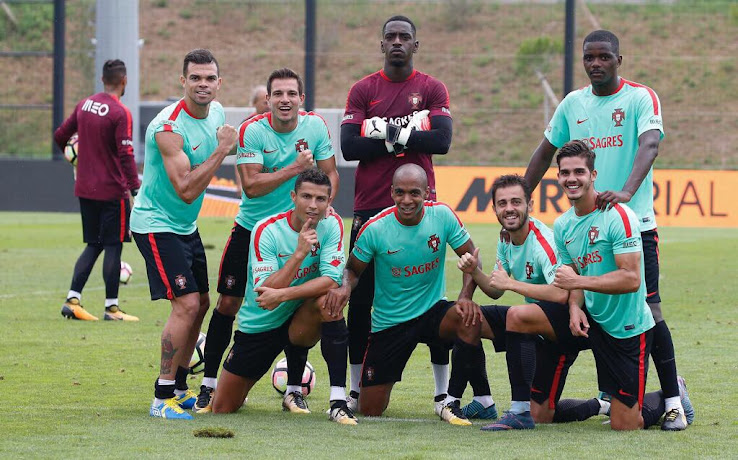football boots: (482, 410, 536, 430), (150, 396, 192, 421), (440, 401, 472, 427), (329, 400, 362, 425), (60, 300, 97, 320), (460, 401, 498, 419), (281, 393, 313, 413), (194, 385, 215, 414), (102, 307, 140, 323), (659, 408, 686, 428)
